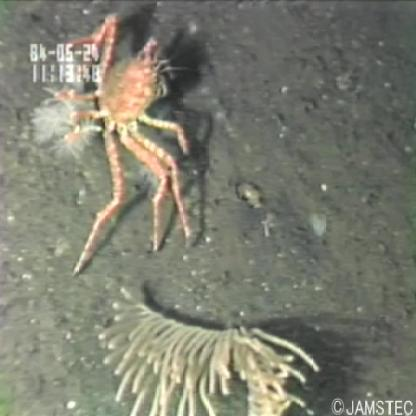Bio: (27, 10, 206, 280), (91, 278, 322, 416)
